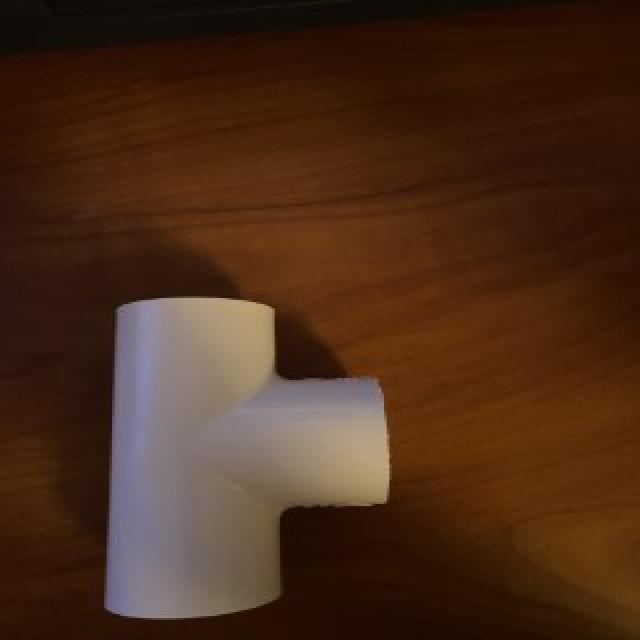T Joint: (102, 297, 392, 622)
